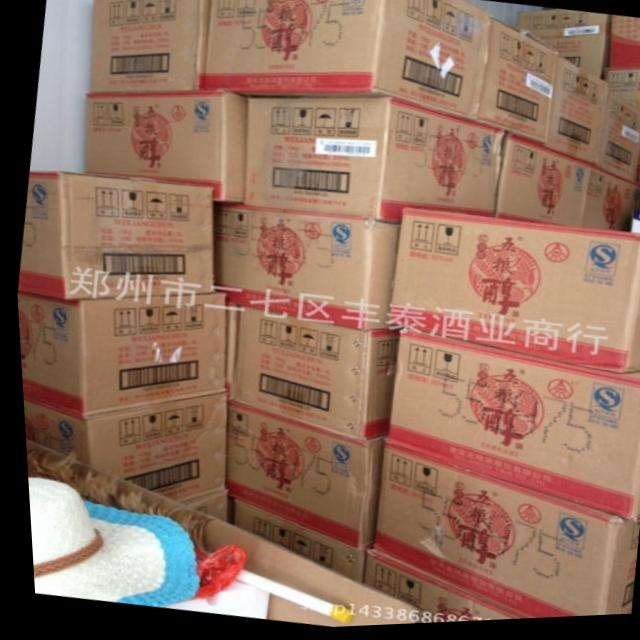box: (381, 332, 640, 526), (365, 440, 634, 623), (382, 210, 640, 379), (204, 0, 490, 125), (239, 98, 505, 227), (14, 290, 223, 421), (14, 171, 212, 301), (219, 398, 383, 552), (211, 202, 397, 334), (224, 310, 397, 443), (19, 395, 223, 507), (83, 92, 246, 206), (356, 552, 522, 627), (89, 0, 211, 96), (473, 18, 558, 150), (227, 503, 357, 586), (491, 136, 589, 233), (544, 61, 609, 170), (515, 15, 610, 85), (593, 96, 640, 190), (578, 171, 632, 237), (607, 21, 640, 77), (175, 493, 222, 525), (606, 76, 640, 115), (223, 306, 237, 400), (633, 154, 640, 189)
